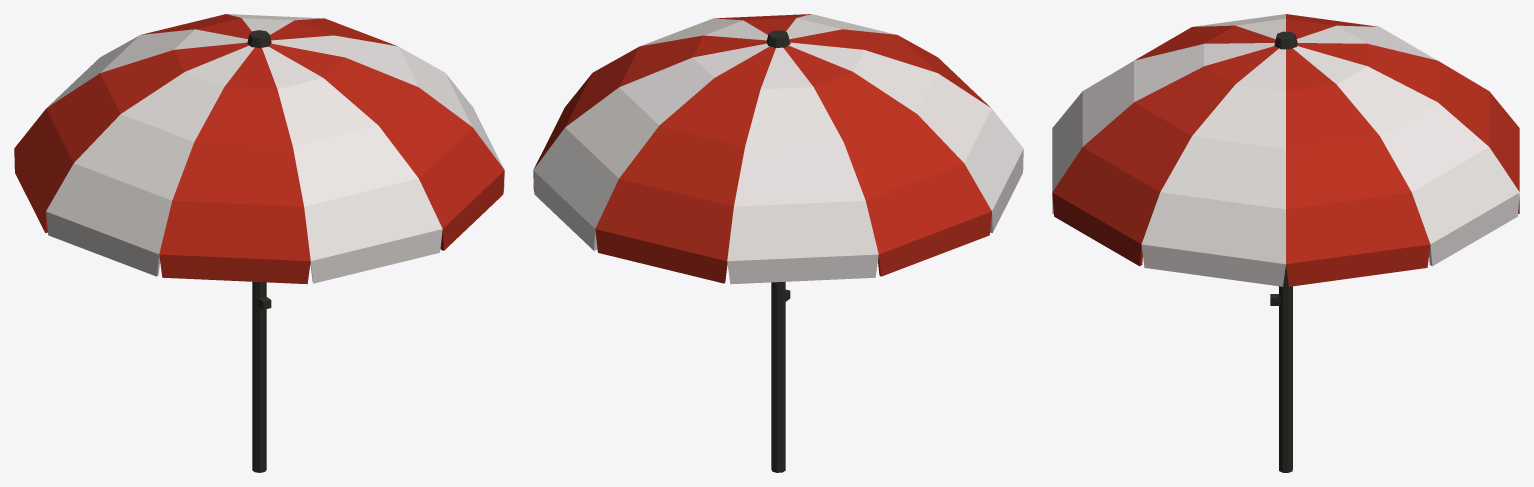
The model's file is SM_Clutter_Umbrella_Red_01.fbx.
The picture shows the model from 3 angles, left to right: view 1: azimuth 30°, elevation 25°; view 2: azimuth 150°, elevation 25°; view 3: azimuth 270°, elevation 25°; orthographic projection.
Visible parts, largest first — view 1: SM_Clutter_Umbrella_Red_01; view 2: SM_Clutter_Umbrella_Red_01; view 3: SM_Clutter_Umbrella_Red_01.
Boxes of the visible parts, x1,y1,x2,y2 form: SM_Clutter_Umbrella_Red_01: (14,14,504,472); SM_Clutter_Umbrella_Red_01: (533,14,1023,472); SM_Clutter_Umbrella_Red_01: (1052,14,1519,472).
Bounding box in the file's own units: 2.36 × 2.3 × 2.24.
Materials: 1 (1 with a texture image).
